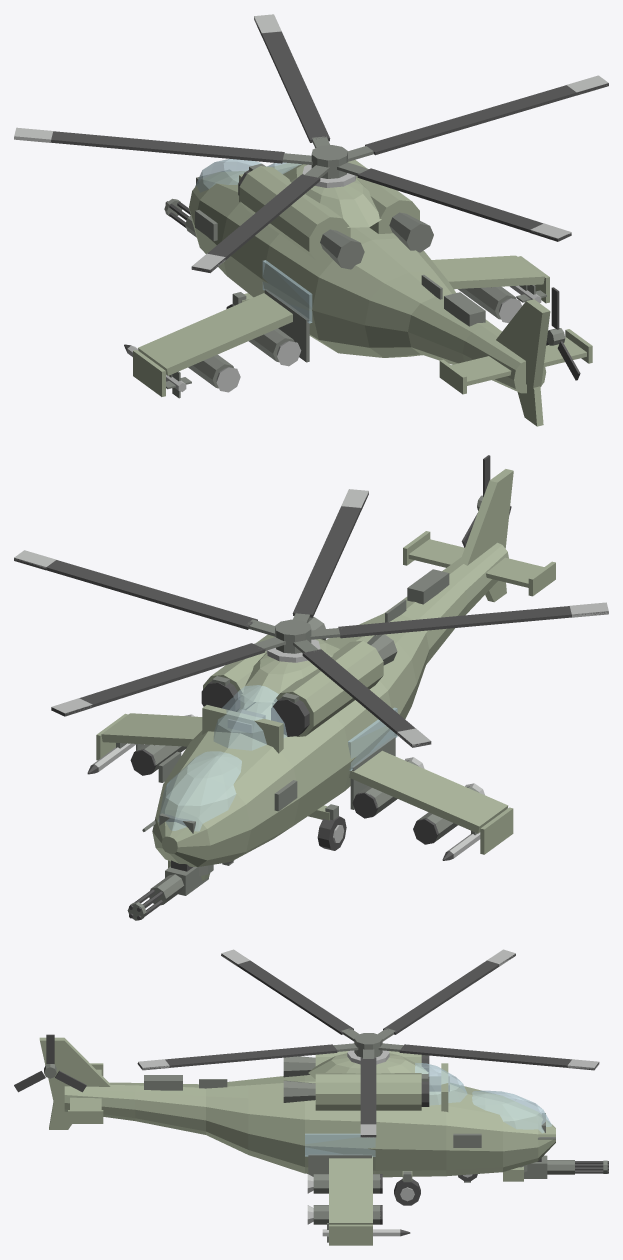
The model's file is heli.glb.
3 renders of one model, top to bottom at view 1: azimuth 30°, elevation 25°; view 2: azimuth 150°, elevation 25°; view 3: azimuth 270°, elevation 25°, orthographic. The views are drawn at different scales.
Parts seen in each view (by area): view 1: hull, rotor, tail_rotor, gun; view 2: hull, rotor, gun, gear; view 3: hull, rotor, gun, tail_rotor, gear.
Boxes of the visible parts, x1,y1,x2,y2 form: hull: (124, 159, 592, 426); rotor: (14, 14, 608, 273); tail_rotor: (546, 287, 580, 380); gun: (164, 198, 196, 237); hull: (87, 469, 555, 871); rotor: (14, 489, 608, 747); gun: (127, 866, 208, 920); gear: (226, 816, 346, 863); hull: (39, 1037, 555, 1245); rotor: (137, 949, 599, 1137); gun: (524, 1155, 608, 1178); tail_rotor: (14, 1034, 86, 1092); gear: (394, 1174, 477, 1205).
Size of the model in its own units: 6.21 by 2.38 by 8.41.
